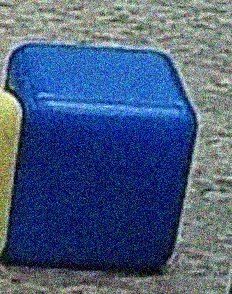blue_cube: (0, 35, 201, 278)
